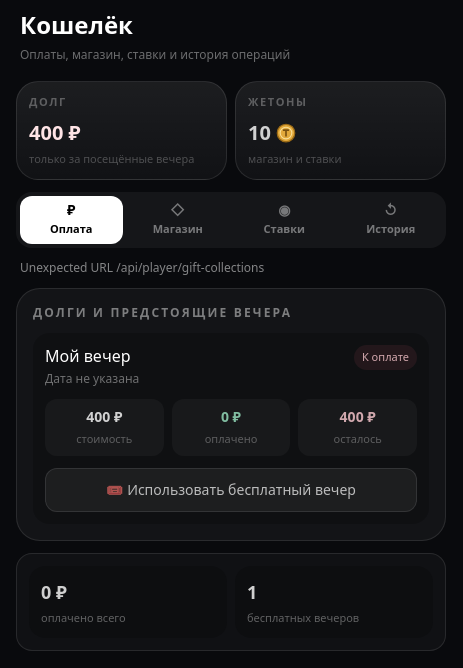
Test case: updates both the payment detail and wallet debt after applying a gifted evening
Click the button "🎟️ Использовать бесплатный вечер".
click(231, 490)  # box [45,468,417,512]
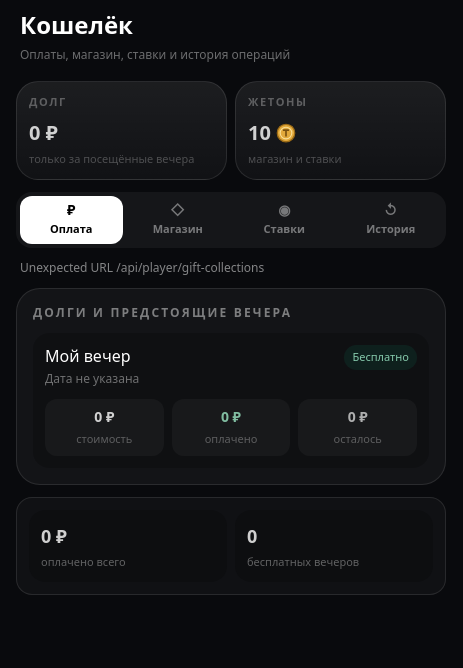
Result: the text "Бесплатно" is shown at [344,345,417,370]
